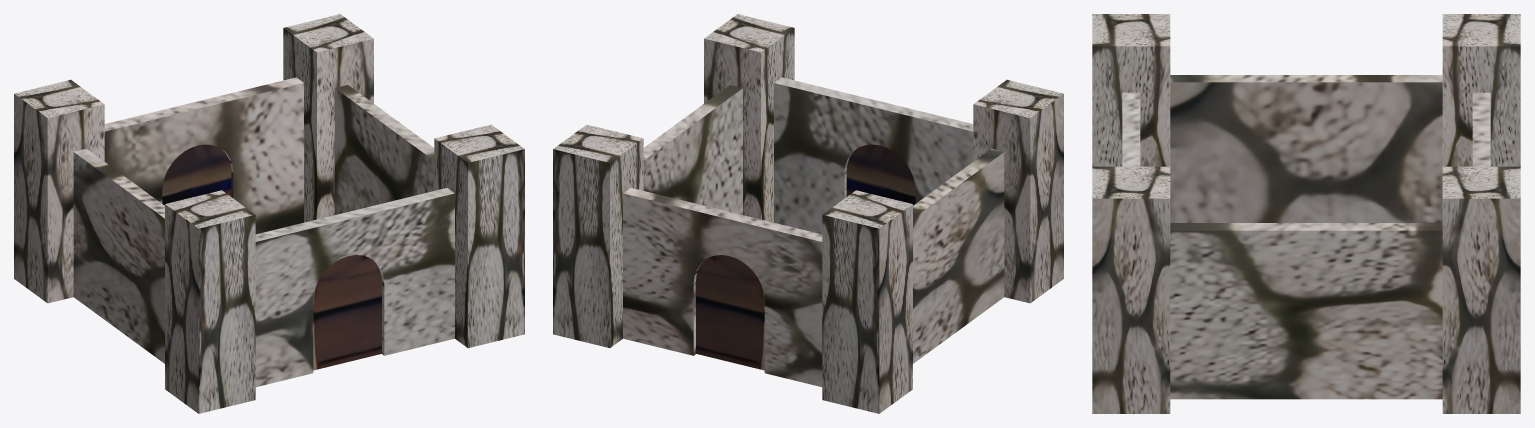
The picture shows the model from 3 angles, left to right: view 1: azimuth 30°, elevation 25°; view 2: azimuth 150°, elevation 25°; view 3: azimuth 270°, elevation 25°; orthographic projection. The views are drawn at different scales.
Visible parts, largest first — view 1: Towers, Doors; view 2: Towers, Doors; view 3: Towers.
Part boxes in pixels (<box>): Towers: <box>14,14,524,413</box>; Doors: <box>162,144,381,370</box>; Towers: <box>553,14,1063,413</box>; Doors: <box>696,144,915,370</box>; Towers: <box>1092,14,1520,413</box>.
Bounding box in the file's own units: 4.7 × 2.55 × 4.61.
Materials: 2 (2 with a texture image).
